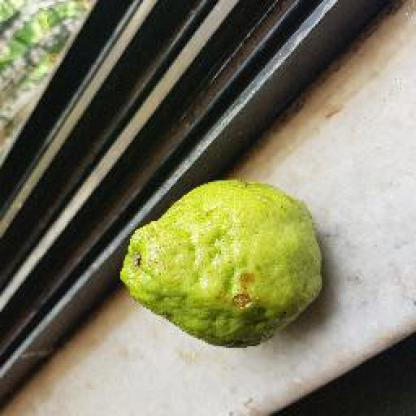guava: (114, 177, 326, 349)
